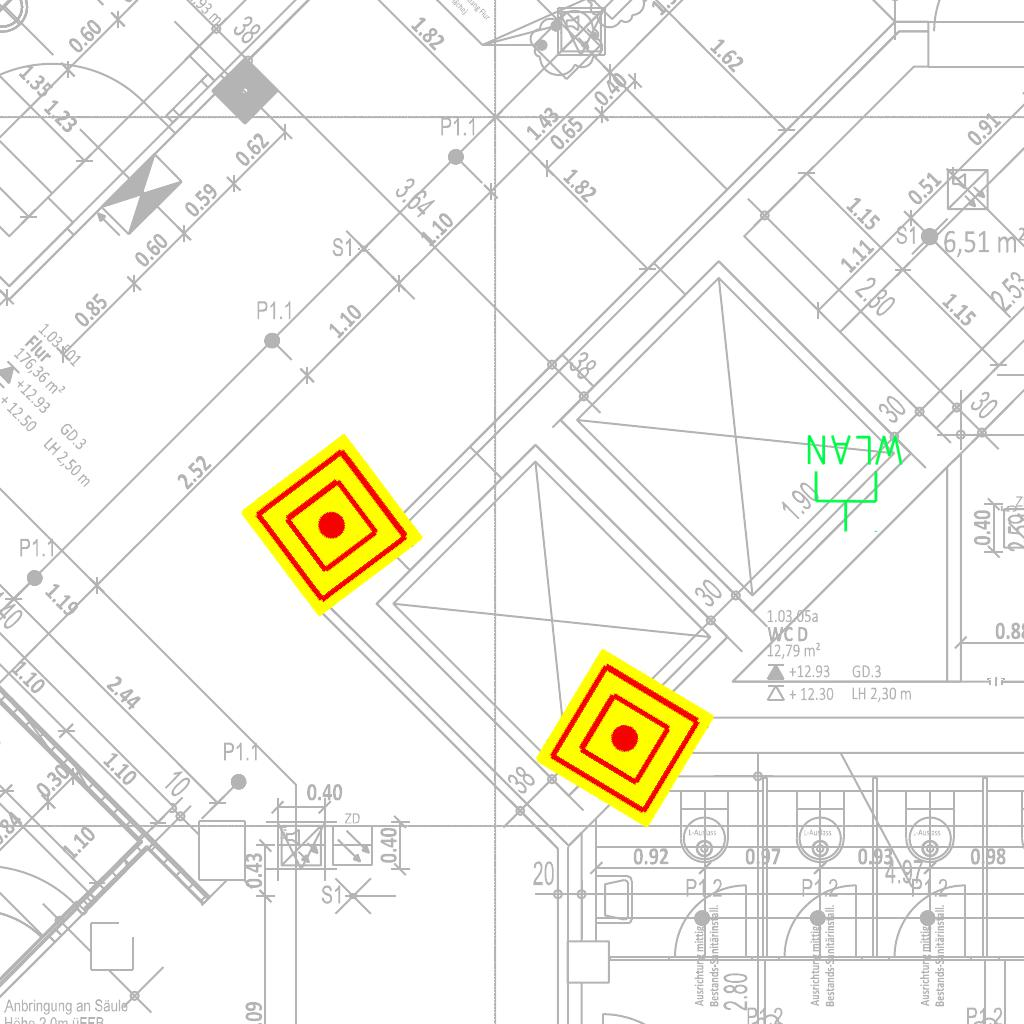NAM-Nichtautomatischer_Melder: (239, 432, 425, 618), (534, 647, 716, 829)
WLAN: (803, 431, 908, 535)
